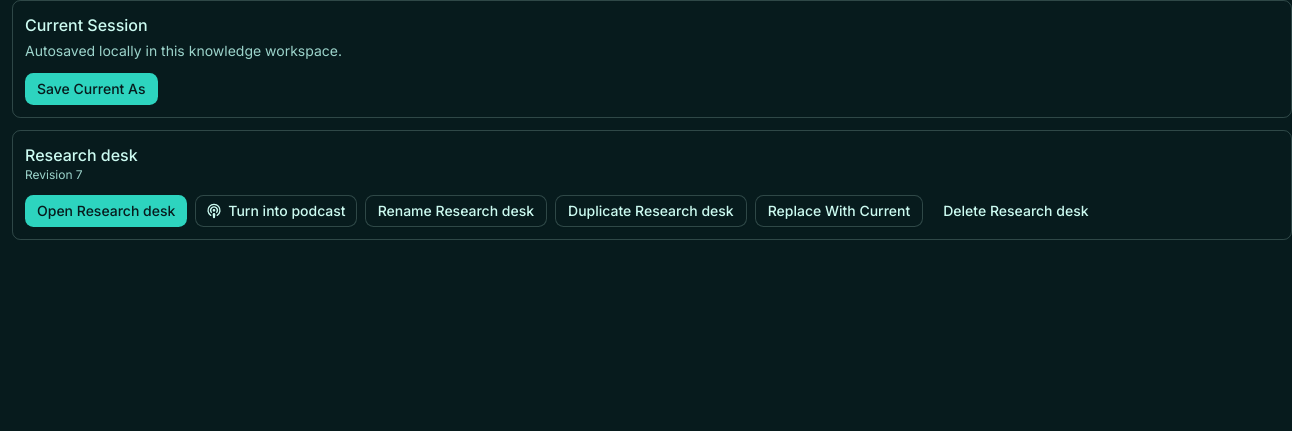
KnowledgeWorkspacesPanel › keeps the editor open after a revision conflict and refreshes the metadata
Click the button "Rename Research desk" at point(456, 211), box x1=365 y1=195 x2=547 y2=227
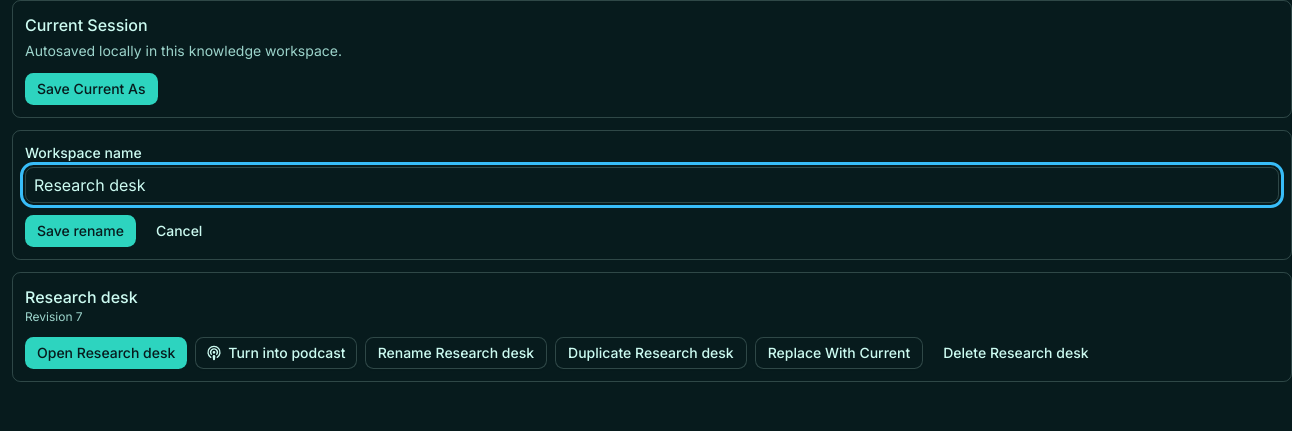
Replace the text in the field labelled "Workspace name" with "New research desk" at point(652, 185), box x1=25 y1=167 x2=1279 y2=203
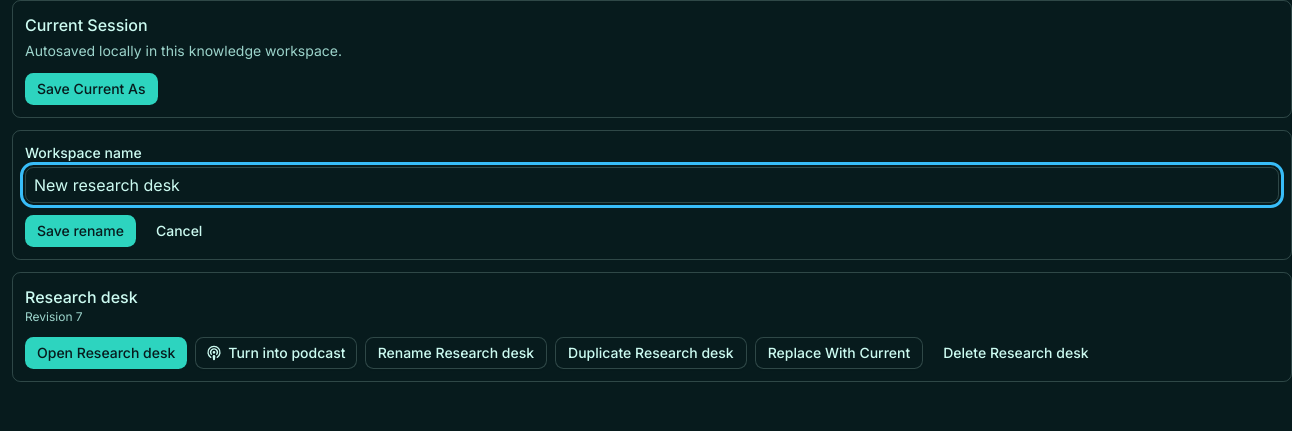
Click the button "Save rename" at point(80, 231), box x1=25 y1=215 x2=136 y2=247
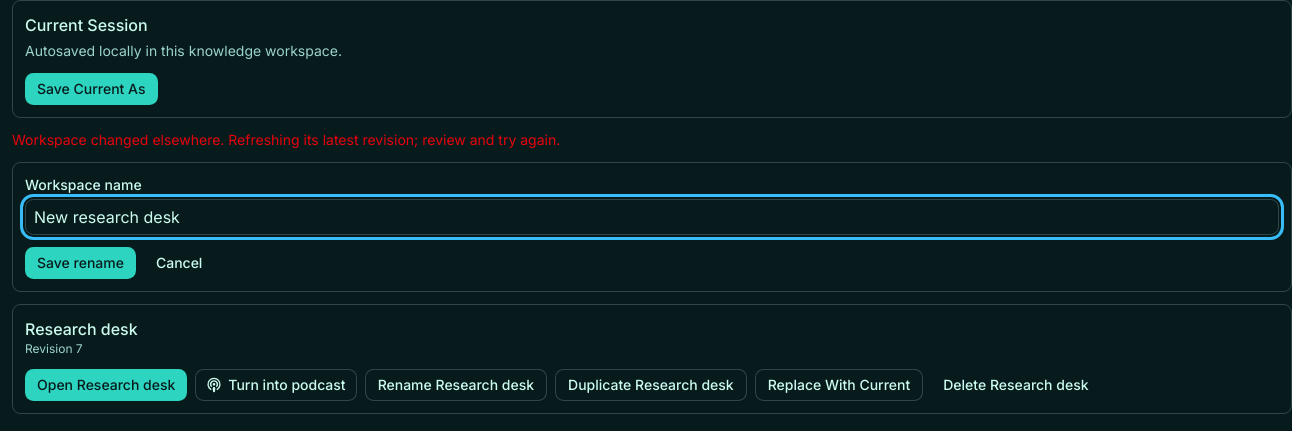
Check: the message shows "Workspace changed elsewhere", box x1=12 y1=131 x2=560 y2=148
